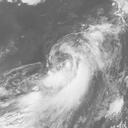cyclone: (46, 31, 100, 95)
